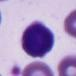L: (18, 19, 56, 58)
